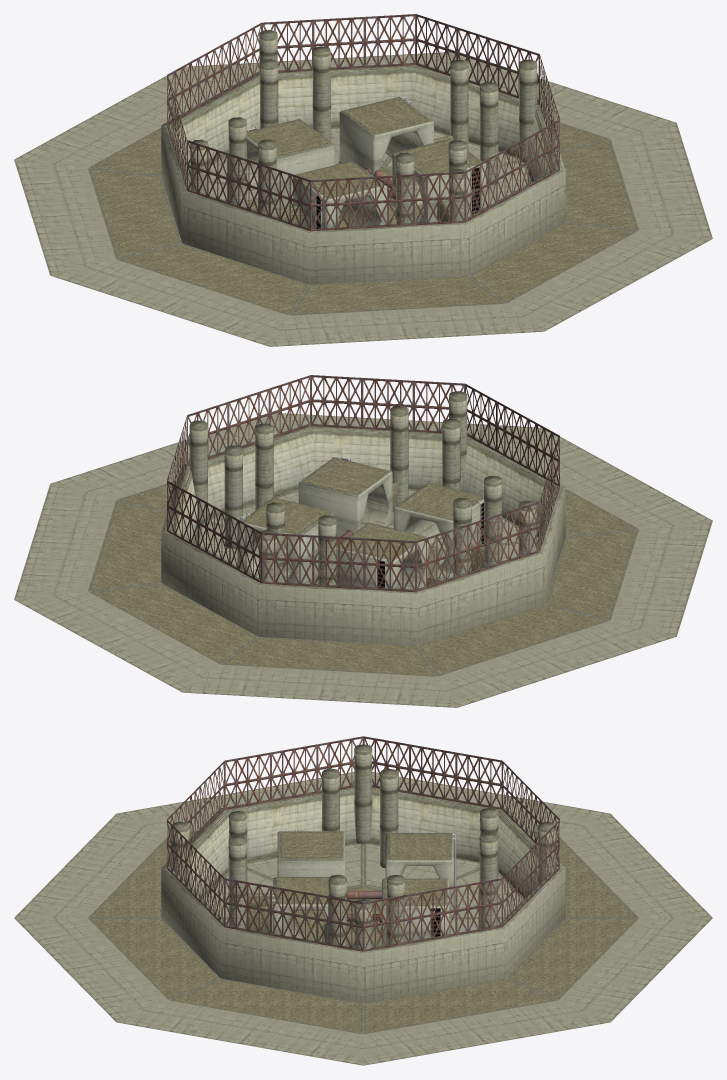
File: BASKET_DOCHEHAR.fbx
The picture shows the model from 3 angles, top to bottom: view 1: azimuth 30°, elevation 25°; view 2: azimuth 150°, elevation 25°; view 3: azimuth 270°, elevation 25°; orthographic projection. The views are drawn at different scales.
Visible parts, largest first — view 1: Basket_Dochehar CONCRETE, Basket_Dochehar METAL; view 2: Basket_Dochehar CONCRETE, Basket_Dochehar METAL; view 3: Basket_Dochehar CONCRETE, Basket_Dochehar METAL.
Boxes of the visible parts, x1,y1,x2,y2 form: Basket_Dochehar CONCRETE: (14, 30, 712, 346); Basket_Dochehar METAL: (167, 14, 559, 231); Basket_Dochehar CONCRETE: (14, 391, 712, 707); Basket_Dochehar METAL: (167, 375, 559, 592); Basket_Dochehar CONCRETE: (14, 744, 712, 1065); Basket_Dochehar METAL: (167, 736, 559, 951).
Bounding box in the file's own units: 103 × 16.21 × 103.
